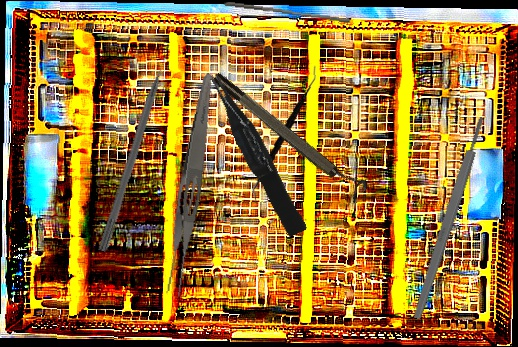Dressing Forceps: (161, 70, 218, 300)
Fixation Ring: (209, 63, 371, 205)
Pusher: (97, 42, 176, 254), (222, 1, 352, 24)
Scalpel Handle: (411, 115, 488, 321)
Spatula Surgical: (241, 64, 330, 204)
Tissue Forceps: (206, 66, 308, 241)
